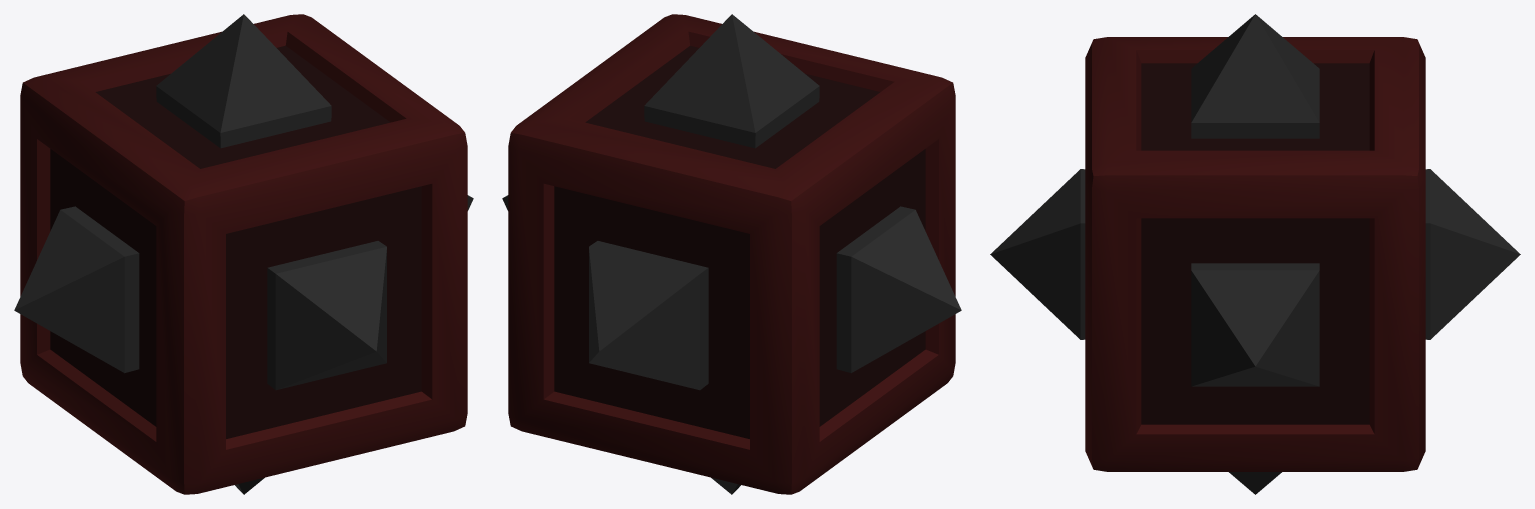
Rendered from Cube_Spikes.obj.
3 views of the same model, side by side, from view 1: azimuth 30°, elevation 25°; view 2: azimuth 150°, elevation 25°; view 3: azimuth 270°, elevation 25° (orthographic).
Visible parts, largest first — view 1: Cube_Spikes_Cube.060; view 2: Cube_Spikes_Cube.060; view 3: Cube_Spikes_Cube.060.
Part boxes in pixels (x1=…): Cube_Spikes_Cube.060: x1=14, y1=14, x2=473, y2=494; Cube_Spikes_Cube.060: x1=502, y1=14, x2=961, y2=494; Cube_Spikes_Cube.060: x1=990, y1=14, x2=1520, y2=494.
Size of the model in its own units: 3.15 by 3.15 by 3.15.
